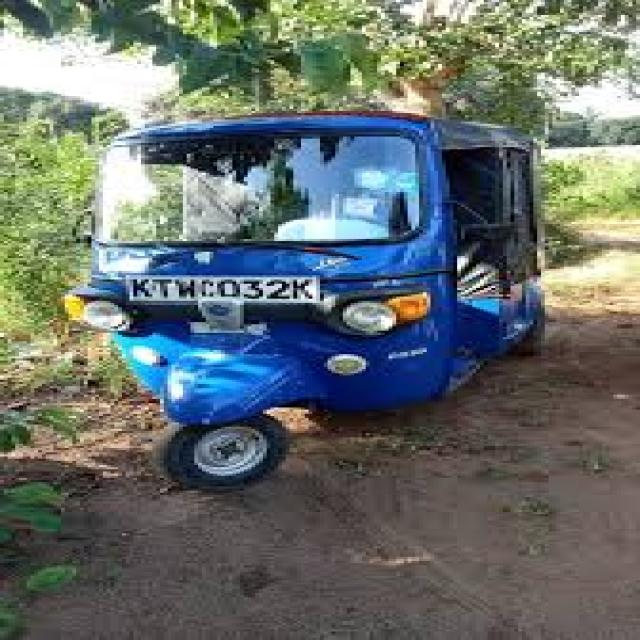tuktuk: (50, 44, 589, 509)
